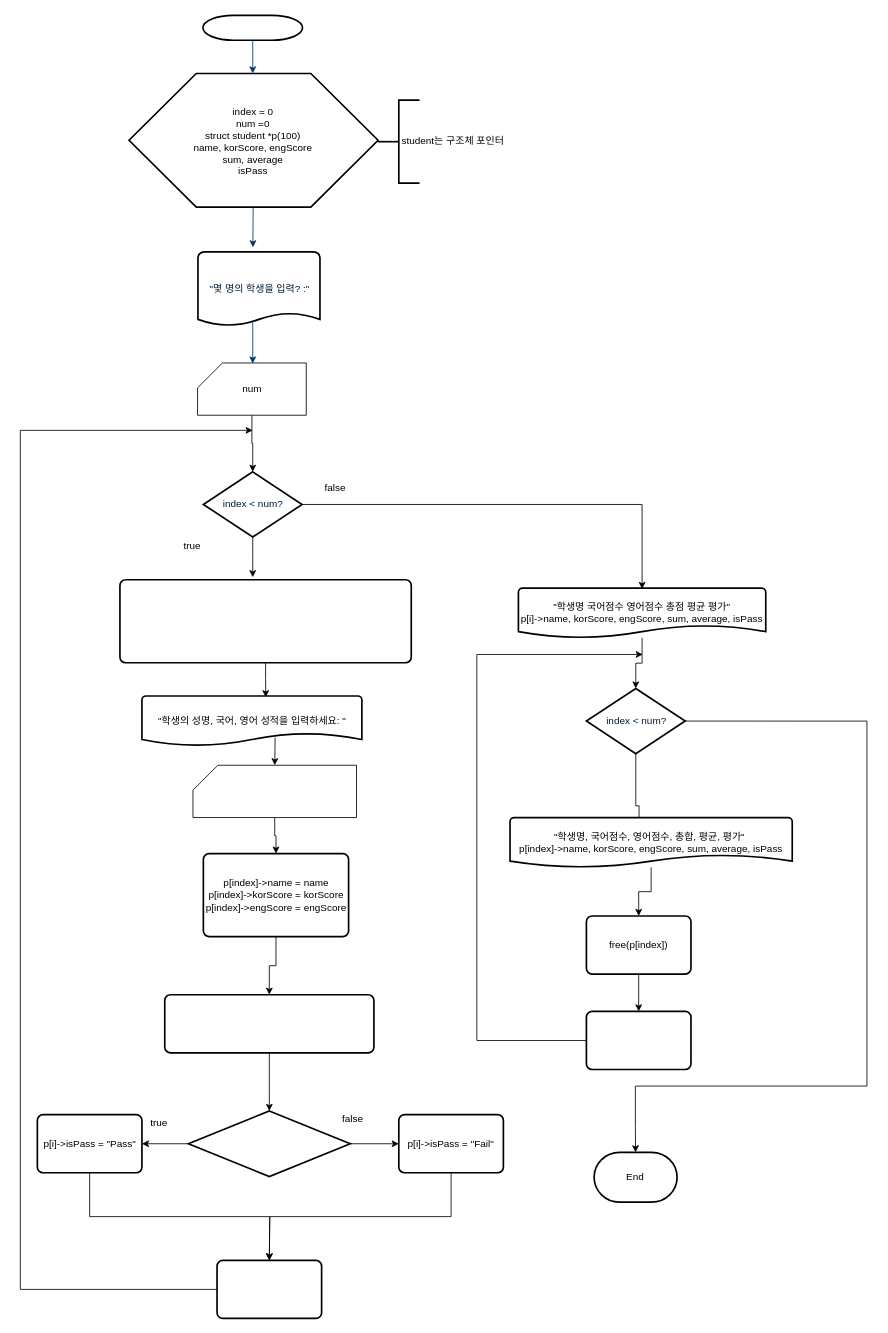
The diagram is 888 pixels wide and 1333 high, and some of its shapes have lost their labels. Each missing label, with the centre of its shape:
index = index + 1: (x=269, y=1289)
index = index +1: (x=638, y=1040)
name, korScore, engScore: (x=274, y=791)
p(index) = (student *)malloc(sizeof(student)): (x=265, y=621)
p[i]->average >= 70?: (x=269, y=1143)
p[i]->sum = p[i]->korScore + p[i]->engScore p[i]->average = p[i]->sum / 2.0: (x=269, y=1023)
start: (x=252, y=27)
